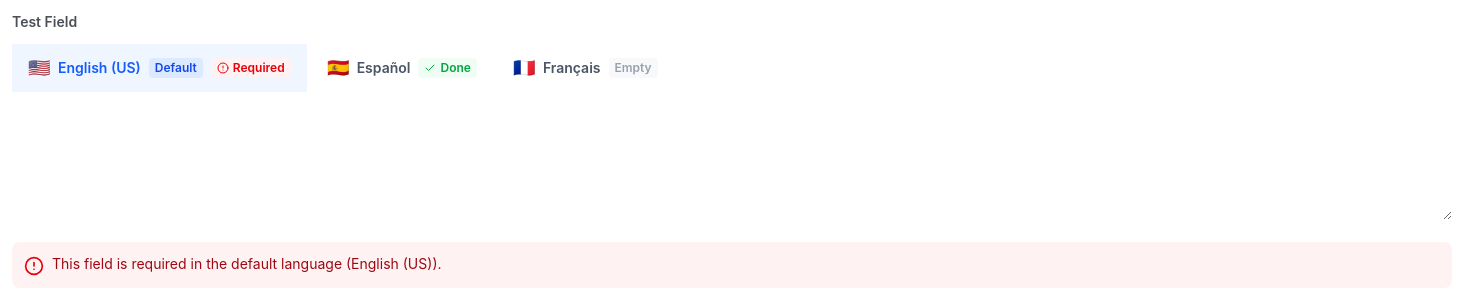
Test: TranslatableTextarea Component › Copy from Default Functionality › should disable copy button when default language is empty
Note: Switch to French tab
Click the button "🇫🇷 Français Empty" at coordinates (585, 68), box 497,44 -> 674,92
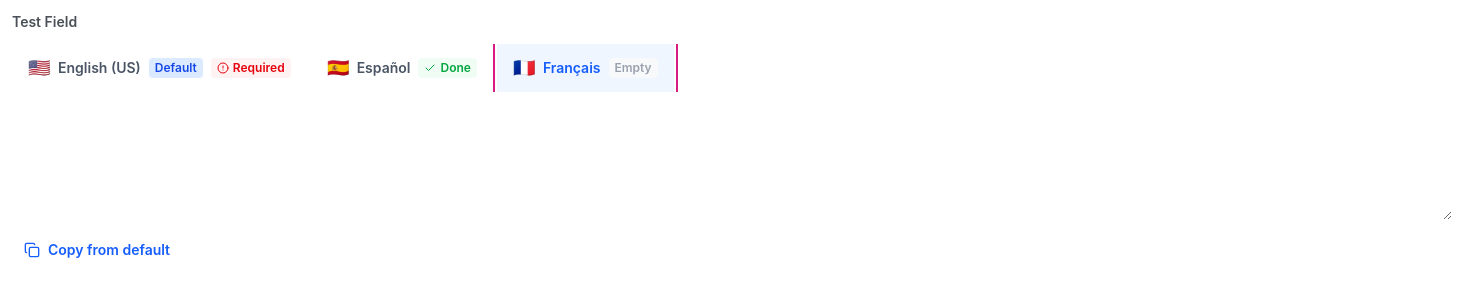
Expected: the button "Copy from default" is disabled, 12,234 -> 182,266
